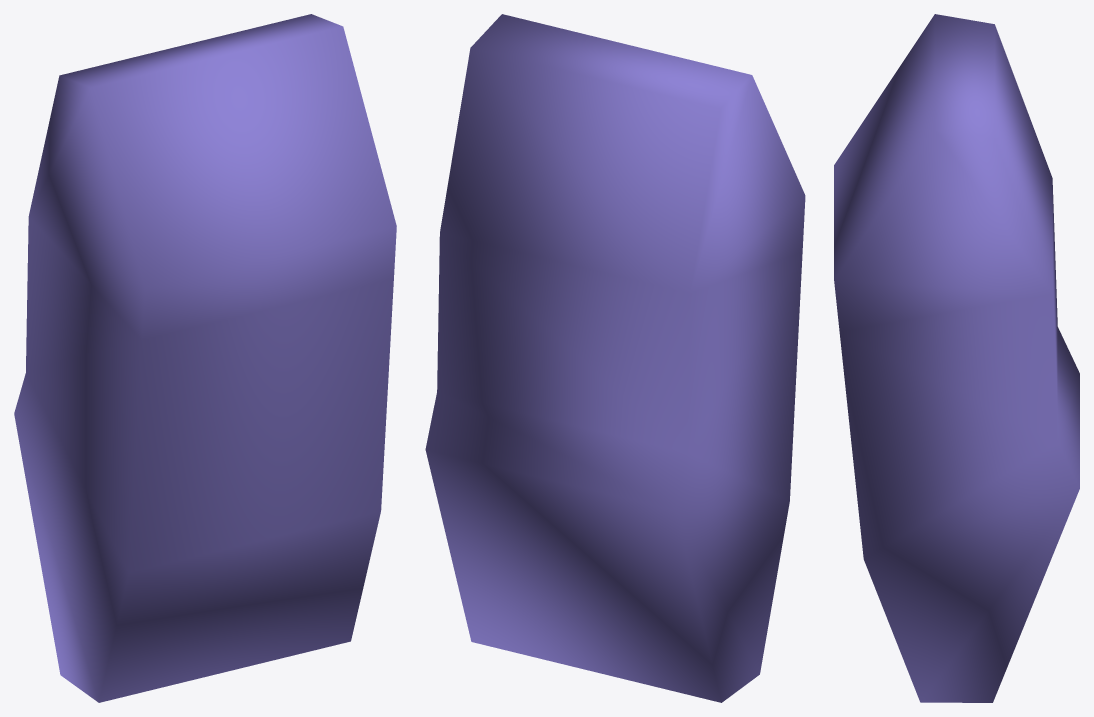
The model's file is Cactus_Leafy_04_SPR_COL.fbx.
3 views of the same model, side by side, from view 1: azimuth 30°, elevation 25°; view 2: azimuth 150°, elevation 25°; view 3: azimuth 270°, elevation 25° (orthographic). The views are drawn at different scales.
Parts seen in each view (by area): view 1: Cactus_Leafy_04_SPR_COL; view 2: Cactus_Leafy_04_SPR_COL; view 3: Cactus_Leafy_04_SPR_COL.
Part boxes in pixels (box(x1,y1,x2,y2)): Cactus_Leafy_04_SPR_COL: box(14, 14, 396, 702); Cactus_Leafy_04_SPR_COL: box(425, 14, 805, 702); Cactus_Leafy_04_SPR_COL: box(834, 14, 1079, 702).
Bounding box in the file's own units: 66.62 × 154 × 59.83.
